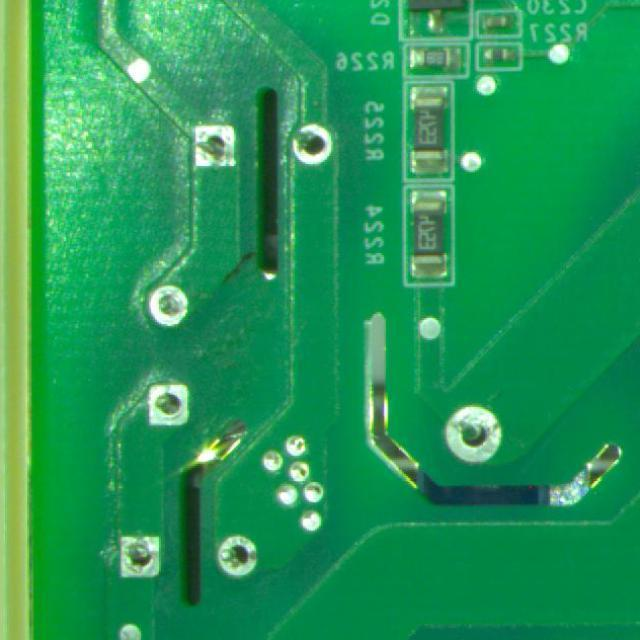Insufficient solder: (432, 392, 512, 469), (130, 264, 198, 340), (142, 364, 206, 439), (101, 524, 177, 586), (179, 108, 238, 174), (286, 126, 334, 166), (218, 532, 262, 570)
